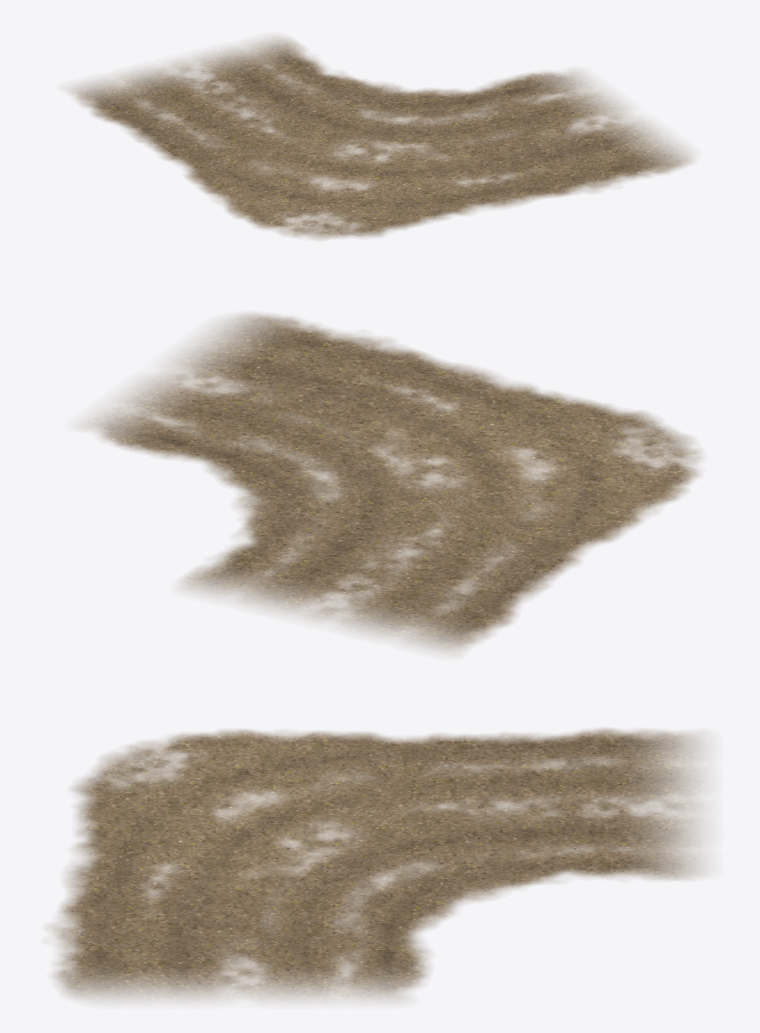
File: road_bend_street_street.glb
3 views of the same model, one above another, from view 1: azimuth 30°, elevation 25°; view 2: azimuth 150°, elevation 25°; view 3: azimuth 270°, elevation 25° (orthographic). The views are drawn at different scales.
Visible parts, largest first — view 1: road_bend_street_street; view 2: road_bend_street_street; view 3: road_bend_street_street.
Part boxes in pixels (box(x1,y1,x2,y2)): road_bend_street_street: box(67, 36, 693, 240); road_bend_street_street: box(81, 313, 702, 653); road_bend_street_street: box(48, 728, 706, 1001).
Size of the model in its own units: 12.75 by 0 by 12.75.
1 material, 1 textured.
